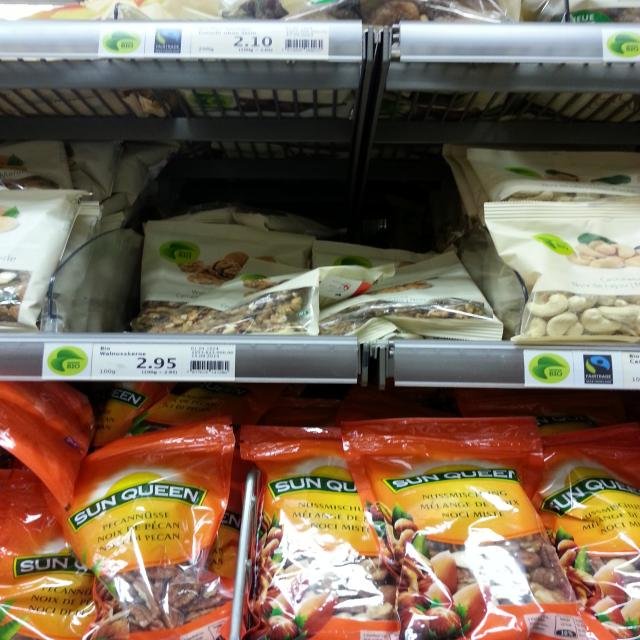DriedFruitsAndNuts: (342, 418, 596, 640), (39, 420, 235, 640), (237, 423, 397, 640), (482, 200, 640, 347), (132, 259, 399, 338), (316, 242, 498, 344)
